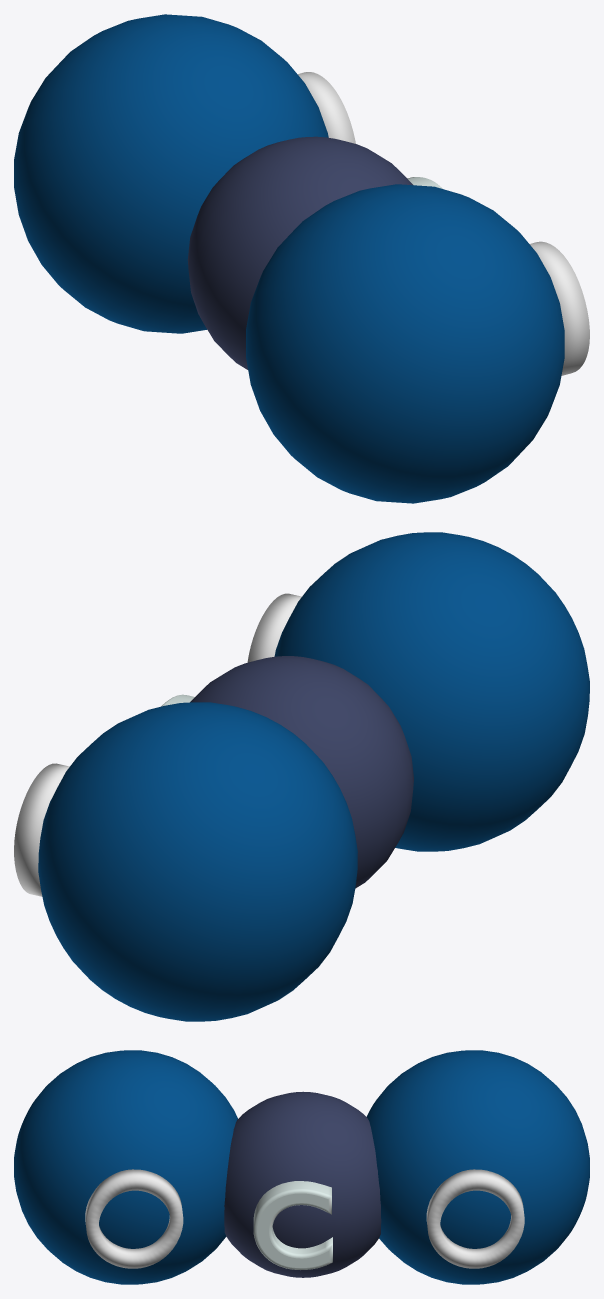
The model's file is 二酸化炭素.fbx.
The picture shows the model from 3 angles, top to bottom: view 1: azimuth 30°, elevation 25°; view 2: azimuth 150°, elevation 25°; view 3: azimuth 270°, elevation 25°; orthographic projection. The views are drawn at different scales.
Parts seen in each view (by area): view 1: テキスト, テキスト.001, carbon; view 2: テキスト.001, テキスト, carbon; view 3: テキスト, テキスト.001, carbon.
Boxes of the visible parts, x1,y1,x2,y2 form: テキスト: (246,184,589,503); テキスト.001: (14,14,355,333); carbon: (187,136,442,369); テキスト.001: (14,702,357,1021); テキスト: (247,532,589,851); carbon: (161,656,413,888); テキスト: (14,1050,237,1284); テキスト.001: (366,1050,589,1284); carbon: (224,1091,381,1277).
Bounding box in the file's own units: 267 × 253 × 619.
